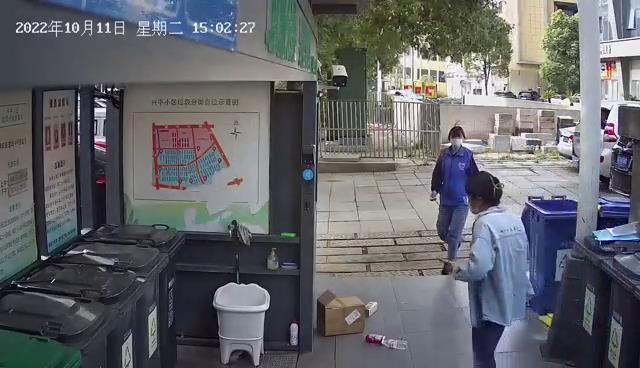lvzhipin: (362, 332, 386, 346)
suliaozhipin: (379, 337, 410, 352), (363, 299, 381, 317)
worker: (440, 169, 537, 368), (426, 123, 482, 279)
zhizhipin: (315, 286, 368, 338)
